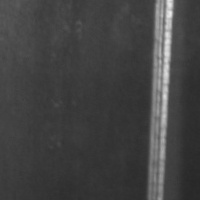scratches: (143, 2, 176, 200)
